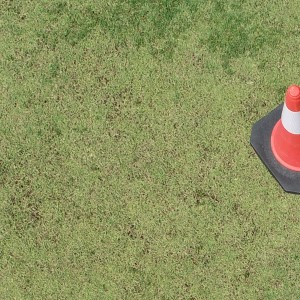traffic cone: (250, 85, 300, 194)
